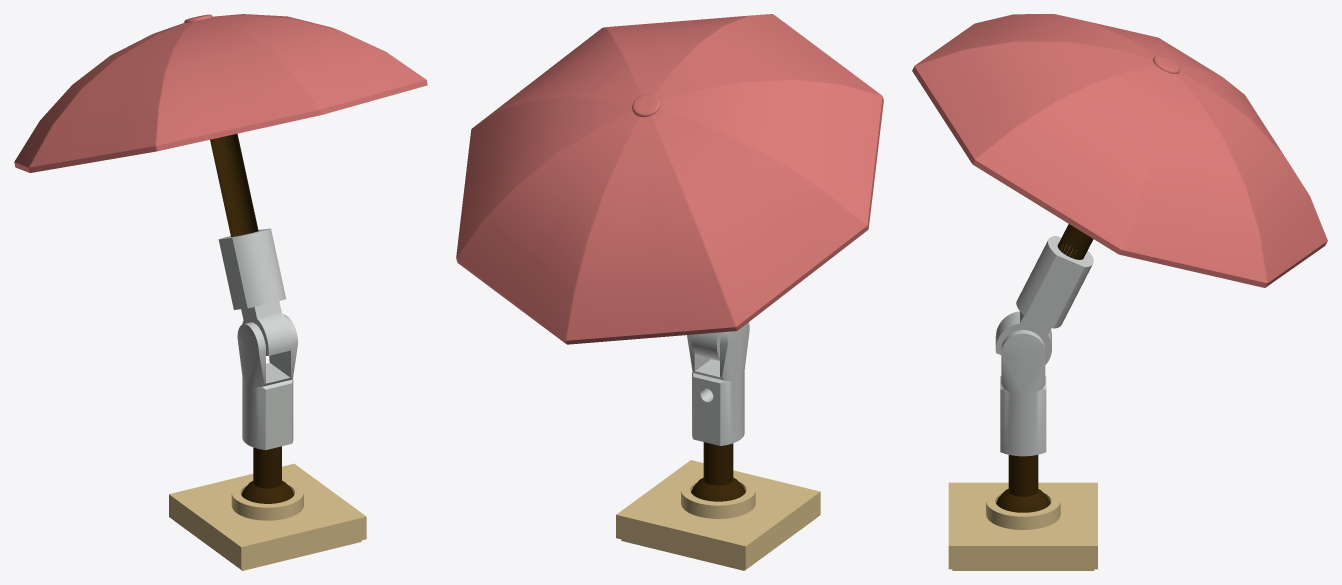
The model's file is Schirm.fbx.
3 views of the same model, side by side, from view 1: azimuth 30°, elevation 25°; view 2: azimuth 150°, elevation 25°; view 3: azimuth 270°, elevation 25° (orthographic). The views are drawn at different scales.
Parts seen in each view (by area): view 1: Sphere.003, Cube.002, Object.043, Object.044, Circle.006, Sphere.001; view 2: Sphere.003, Cube.002, Object.043, Sphere.001, Object.044; view 3: Sphere.003, Cube.002, Object.043, Object.044, Sphere.001, Circle.006.
Boxes of the visible parts, x1,y1,x2,y2 form: Sphere.003: (14,14,427,172); Cube.002: (169,463,366,570); Object.043: (237,314,297,450); Object.044: (218,228,293,355); Circle.006: (210,133,258,236); Sphere.001: (241,446,293,503); Sphere.003: (456,14,883,344); Cube.002: (616,460,820,570); Object.043: (687,322,749,445); Sphere.001: (691,442,745,501); Object.044: (691,332,721,360); Sphere.003: (912,14,1327,287); Cube.002: (948,482,1097,570); Object.043: (1000,330,1046,456); Object.044: (995,236,1093,364); Sphere.001: (996,455,1050,512); Circle.006: (1057,224,1093,259).
Size of the model in its own units: 183 by 221 by 167.
